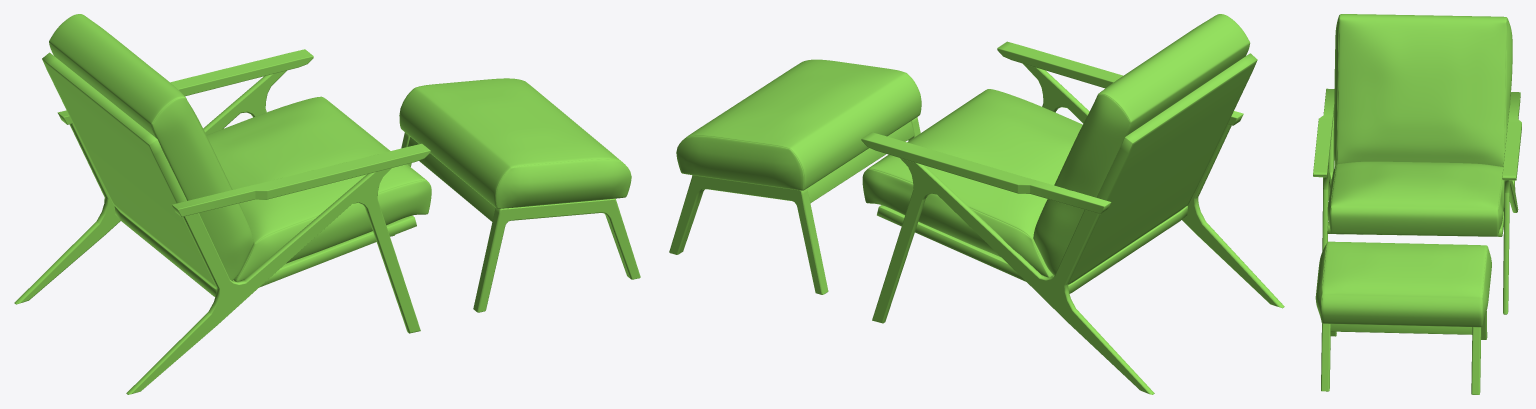
The model's file is armchair_.obj.
The picture shows the model from 3 angles, left to right: view 1: azimuth 30°, elevation 25°; view 2: azimuth 150°, elevation 25°; view 3: azimuth 270°, elevation 25°; orthographic projection. The views are drawn at different scales.
Visible parts, largest first — view 1: armchair_001; view 2: armchair_001; view 3: armchair_001.
Part boxes in pixels (x1=…): armchair_001: x1=14, y1=14, x2=640, y2=394; armchair_001: x1=669, y1=14, x2=1284, y2=394; armchair_001: x1=1313, y1=14, x2=1521, y2=394.
Size of the model in its own units: 89.32 by 46.69 by 41.76.
